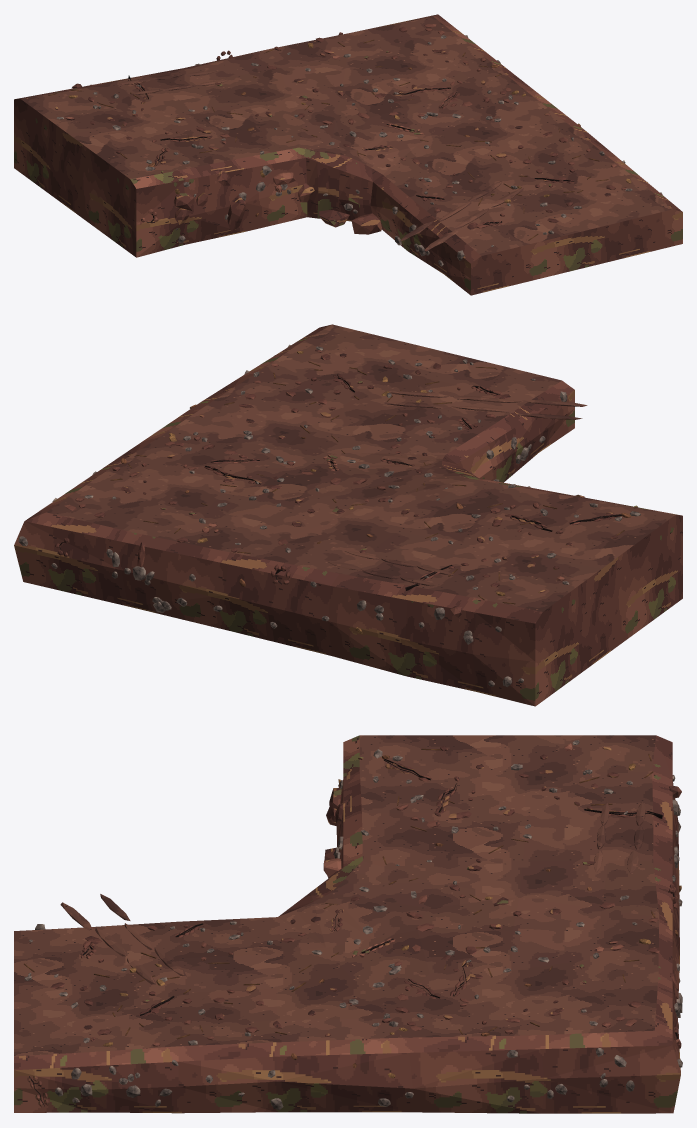
File: SM_AN08_RampTurn.fbx
The picture shows the model from 3 angles, top to bottom: view 1: azimuth 30°, elevation 25°; view 2: azimuth 150°, elevation 25°; view 3: azimuth 270°, elevation 25°; orthographic projection. The views are drawn at different scales.
Parts seen in each view (by area): view 1: AN08a_Floor, AN08a_Earth, AN08a_Props; view 2: AN08a_Floor, AN08a_Earth, AN08a_Props; view 3: AN08a_Floor, AN08a_Earth, AN08a_Props.
Boxes of the visible parts, x1,y1,x2,y2 form: AN08a_Floor: (20, 17, 671, 255); AN08a_Earth: (14, 14, 682, 295); AN08a_Props: (48, 35, 662, 266); AN08a_Floor: (46, 324, 675, 611); AN08a_Earth: (14, 324, 682, 706); AN08a_Props: (18, 344, 640, 686); AN08a_Floor: (14, 735, 659, 1056); AN08a_Earth: (14, 735, 681, 1113); AN08a_Props: (24, 740, 682, 1110).
Size of the model in its own units: 6.1 by 1.01 by 6.1.
